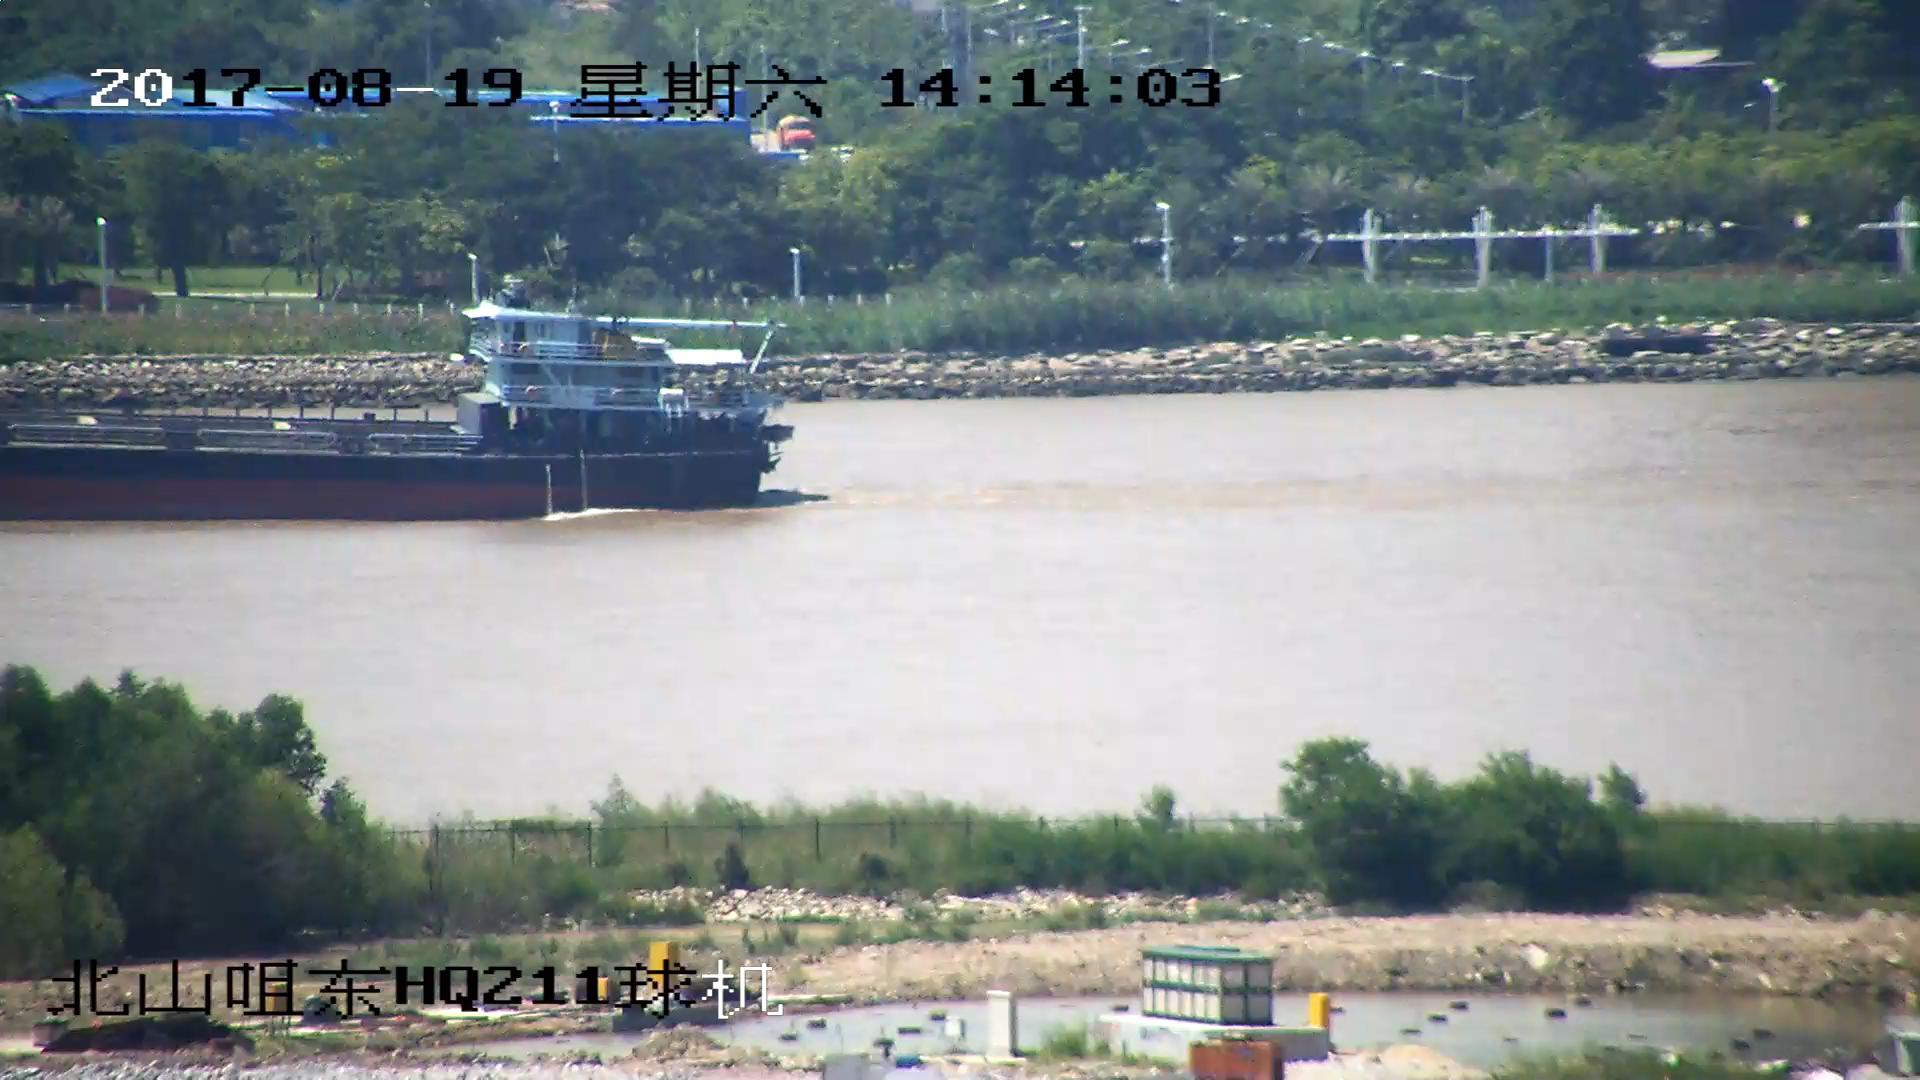Ship: (3, 281, 783, 525)
